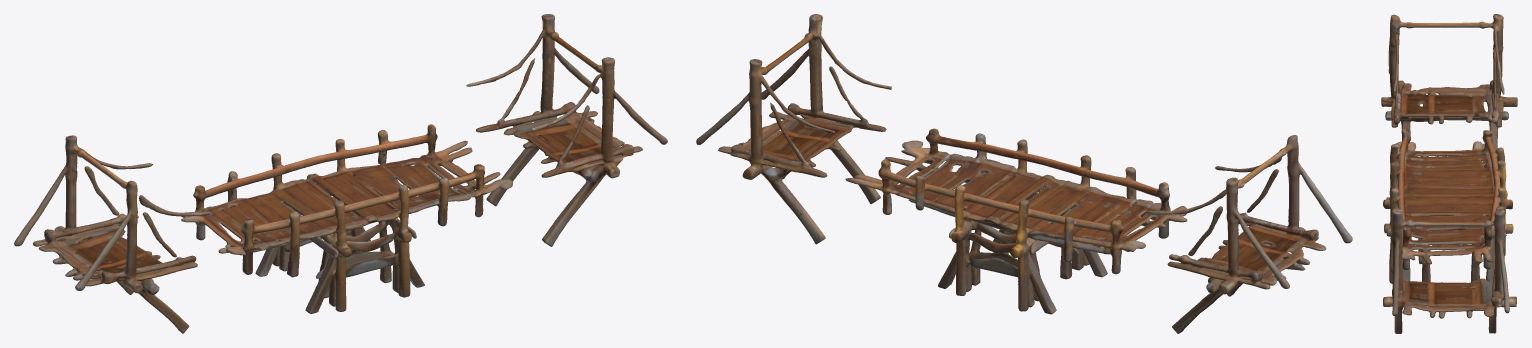
File: Meshy_AI_ponte_rotto_0219075033_texture.glb
3 views of the same model, side by side, from view 1: azimuth 30°, elevation 25°; view 2: azimuth 150°, elevation 25°; view 3: azimuth 270°, elevation 25° (orthographic). The views are drawn at different scales.
Bounding box in the file's own units: 2 × 0.5998 × 0.4687.
1 material, 1 textured.
